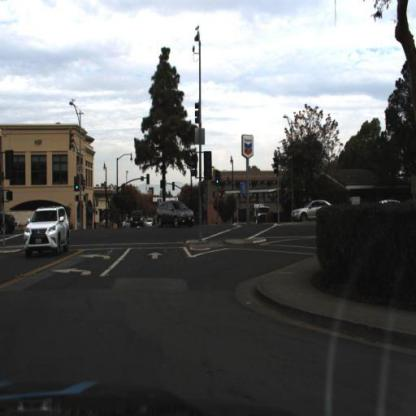car: (23, 203, 74, 261), (291, 199, 335, 226), (157, 200, 194, 229), (129, 208, 147, 231)
trafficLight-Green: (215, 169, 223, 190), (74, 176, 81, 193)
